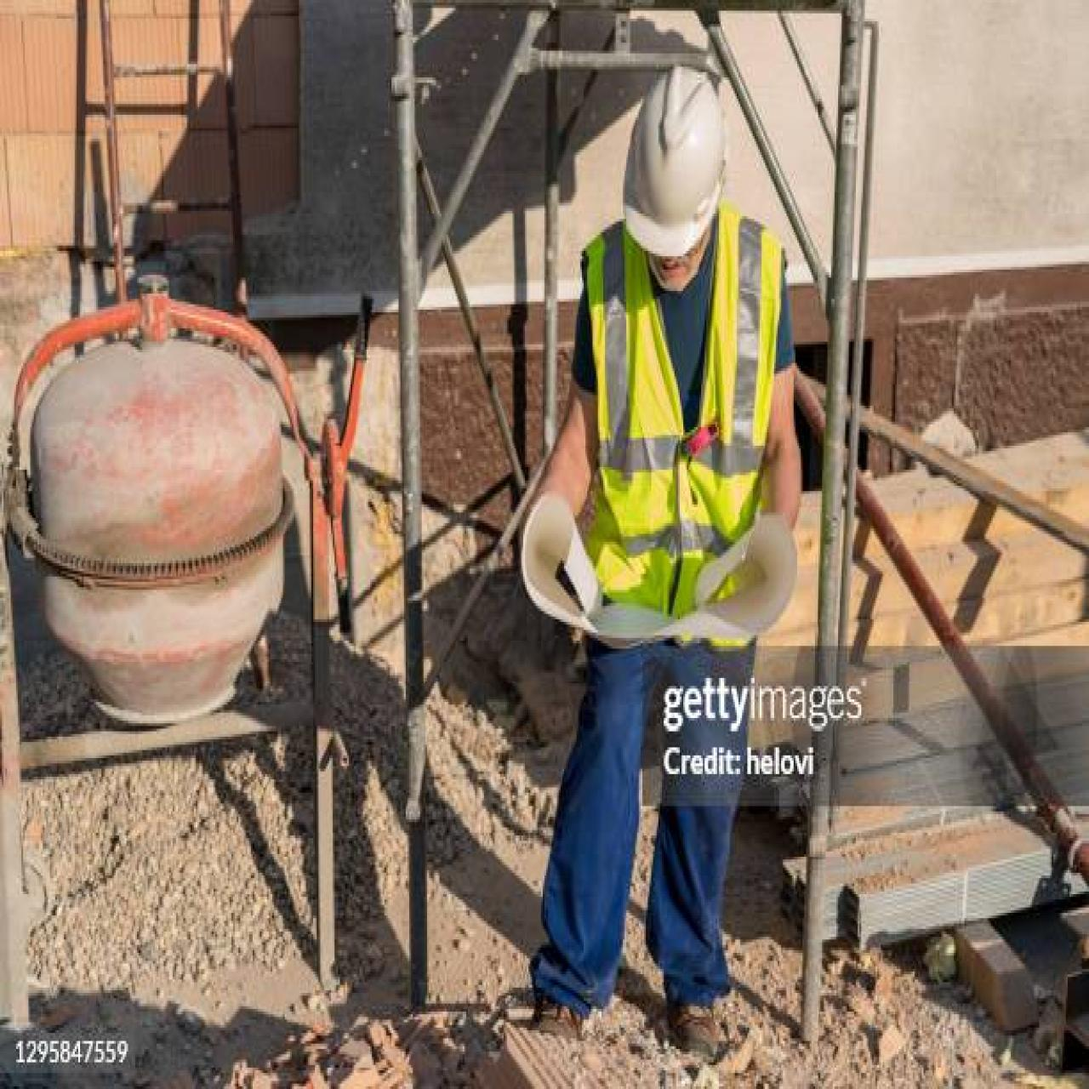Person: (512, 39, 800, 1063)
Safety_Vest: (571, 201, 797, 667)
